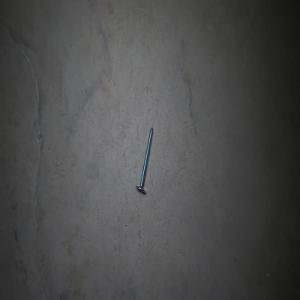Bolt: (135, 126, 153, 193)
